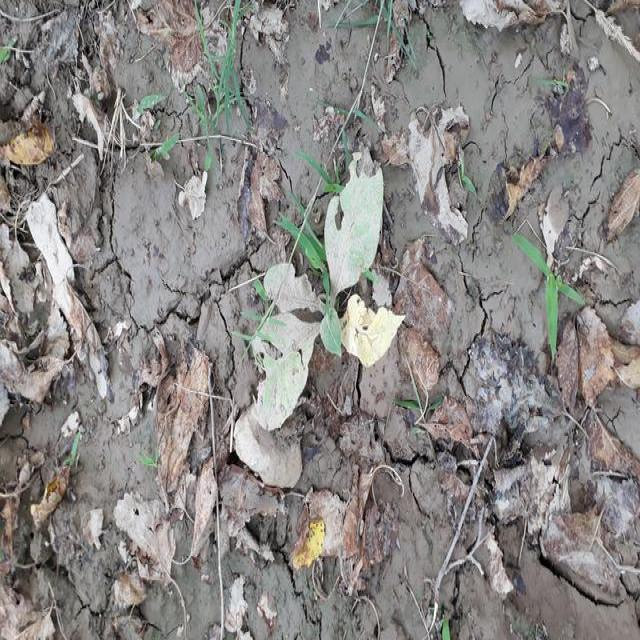crop: (254, 164, 406, 433)
